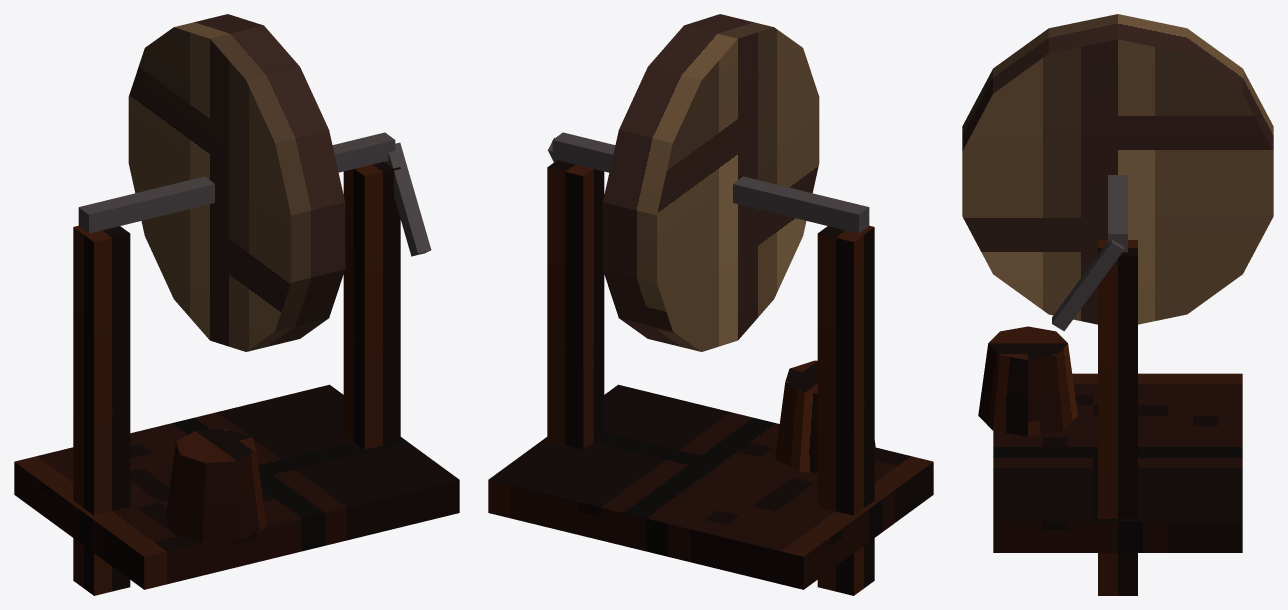
Rendered from grindstone.glb.
3 renders of one model, left to right at view 1: azimuth 30°, elevation 25°; view 2: azimuth 150°, elevation 25°; view 3: azimuth 270°, elevation 25°, orthographic. The views are drawn at different scales.
Visible parts, largest first — view 1: grindstone; view 2: grindstone; view 3: grindstone.
Part boxes in pixels (x1=…): grindstone: x1=14, y1=14, x2=459, y2=595; grindstone: x1=488, y1=14, x2=933, y2=595; grindstone: x1=962, y1=14, x2=1273, y2=595.
Size of the model in its own units: 0.705 by 1.1 by 0.624.
Materials: 3 (2 with a texture image).
